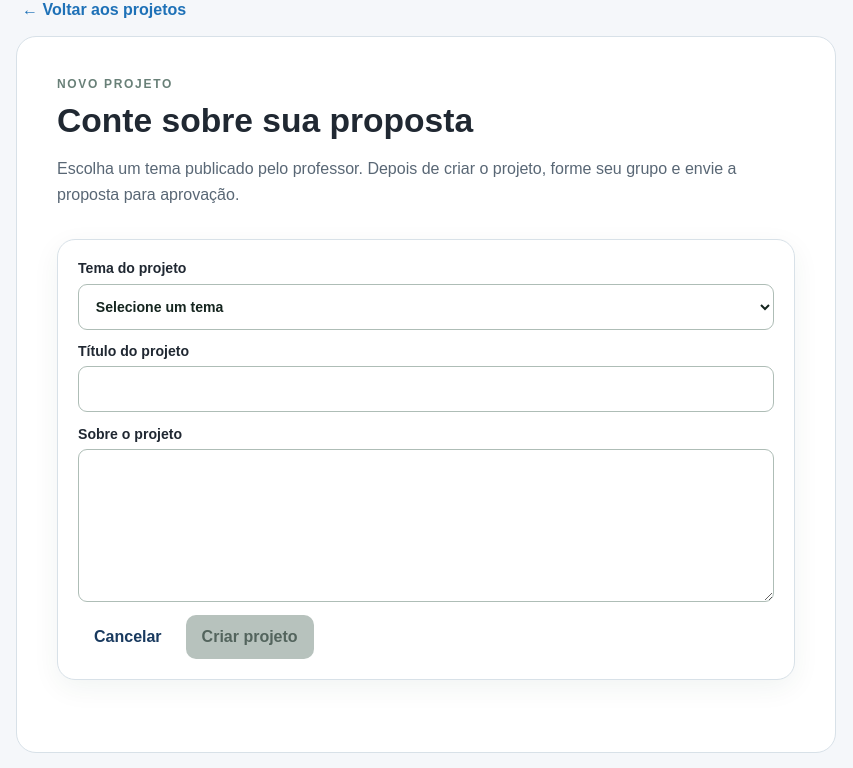
Test: criação de projeto por tema › professor só cria projeto após indicar o líder
Select "Tema Cidadania · Sala Teste" in the dropdown labelled "Tema do projeto": (426, 307) [78,284,774,330]
(page scrolled)
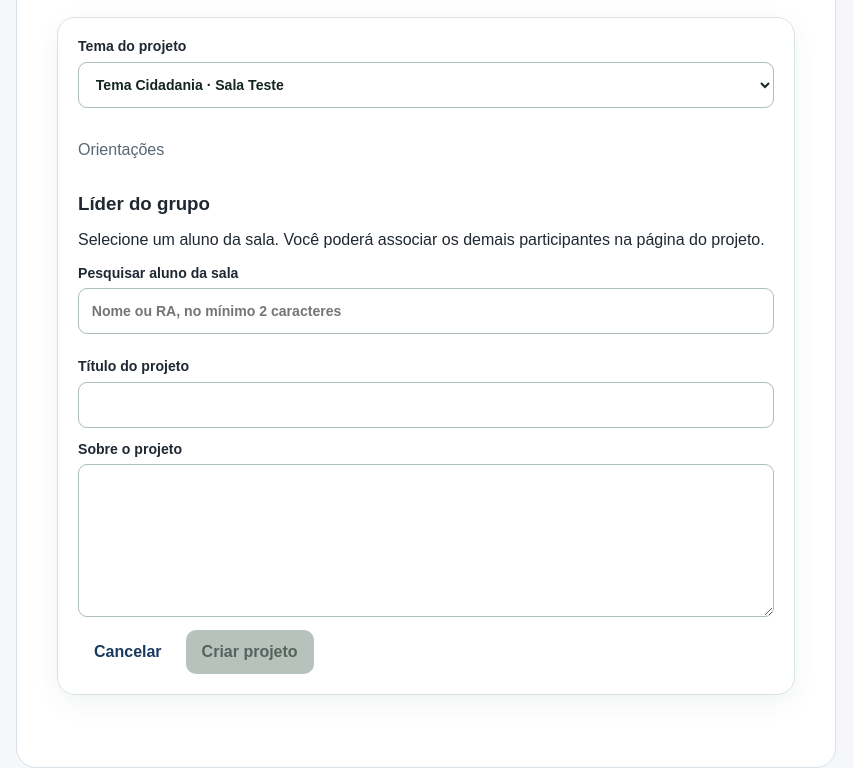
Expected: the button "Criar projeto" is disabled, [186,630,314,674]
Expected: the heading "Líder do grupo" is shown, [78,193,210,214]
